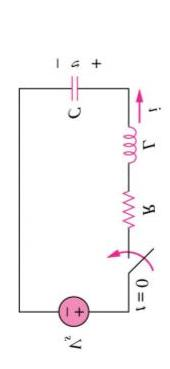inductor: (114, 120, 143, 173)
